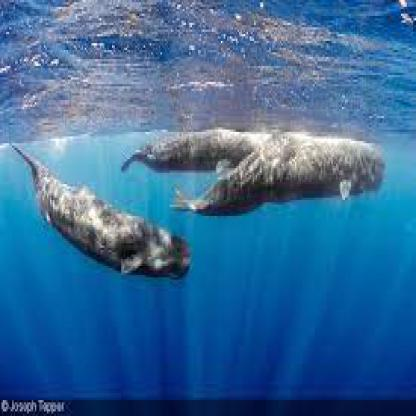sperm_whale: (133, 121, 389, 244), (14, 146, 186, 320)
